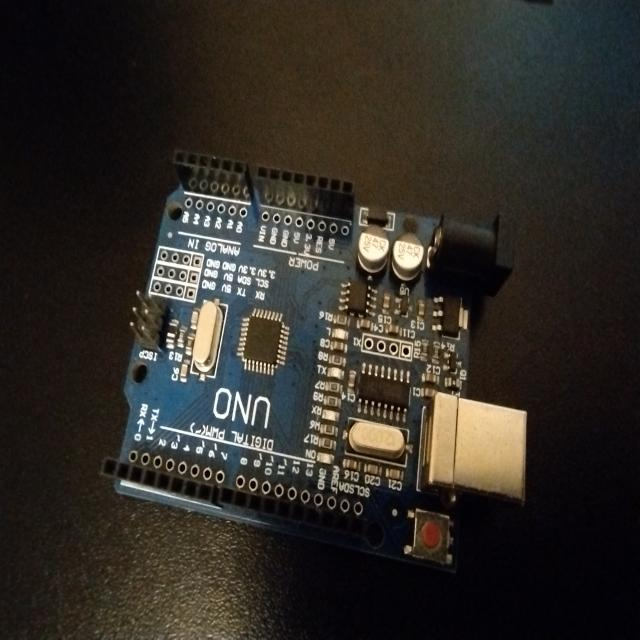arduino: (139, 138, 515, 574)
